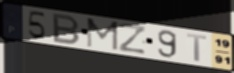5: (27, 10, 47, 40)
9: (157, 29, 179, 59)
B: (51, 12, 82, 46)
M: (85, 17, 120, 52)
T: (185, 32, 209, 63)
Z: (118, 22, 148, 56)
